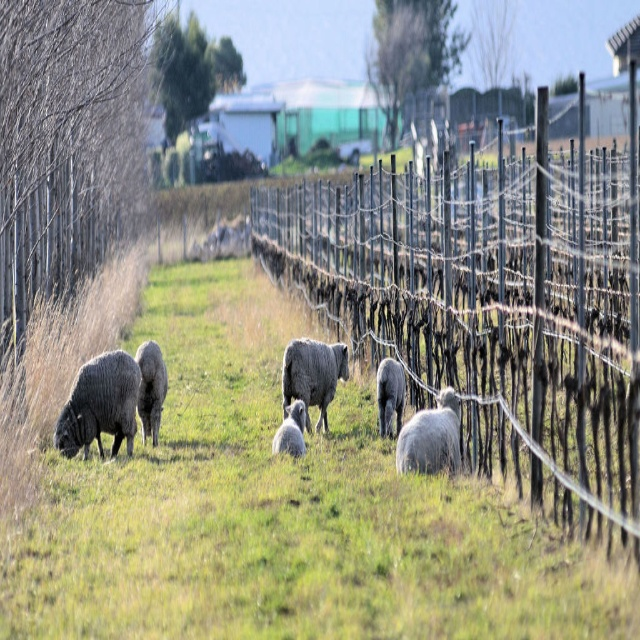Sheep: (53, 338, 462, 480)
